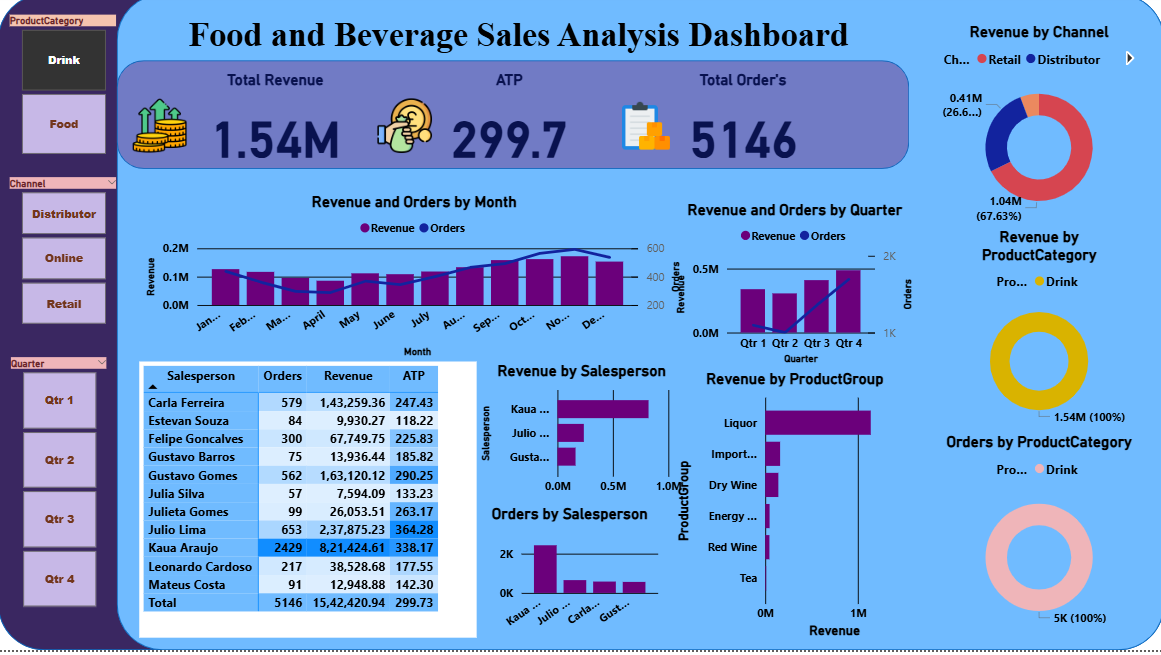

This screenshot's page, from the dashboard's own definition file:
{"tool":"powerbi","page":{"name":"Page 2","canvas":[1280,720],"ordinal":1},"visuals":[{"type":"shape","box":[0,0,1280.3,720.4],"z":0},{"type":"shape","box":[130.4,0,1149.9,720.4],"z":1000},{"type":"shape","box":[130.4,72.7,870,119.4],"z":2000},{"type":"card","title":"Total Revenue","fields":{"Values":["Product.Revenue"]},"box":[155.1,83.7,299.1,119.4],"z":3000},{"type":"card","title":"ATP","fields":{"Values":["Product.ATP"]},"box":[411.7,83.7,299.1,119.4],"z":4000},{"type":"card","title":"Total Order''s","fields":{"Values":["Product.Orders"]},"box":[668.3,83.7,299.1,119.4],"z":5000},{"type":"donutChart","fields":{"Y":["Product.Revenue"],"Category":["Sheet1.Channel"]},"box":[1033.3,31.6,219.6,225],"z":6000},{"type":"donutChart","fields":{"Y":["Product.Revenue"],"Category":["Product.ProductCategory"]},"box":[1033.3,256.6,219.6,225],"z":7000},{"type":"donutChart","fields":{"Category":["Product.ProductCategory"],"Y":["Product.Orders"]},"box":[1033.3,481.6,219.6,225],"z":8000},{"type":"lineStackedColumnComboChart","fields":{"Y":["Product.Revenue"],"Y2":["Product.Orders"],"Category":["Sheet1.OrderDate.Variation.Date Hierarchy.Quarter"]},"box":[739.6,226.4,270.3,185.2],"z":9000},{"type":"barChart","fields":{"Y":["Product.Revenue"],"Category":["Product.ProductGroup"]},"box":[739.6,411.7,270.3,300.5],"z":10000},{"type":"lineStackedColumnComboChart","fields":{"Y":["Product.Revenue"],"Y2":["Product.Orders"],"Category":["Sheet1.OrderDate.Variation.Date Hierarchy.Month"]},"box":[157.8,218.2,598.3,185.2],"z":11000},{"type":"barChart","fields":{"Y":["Product.Revenue"],"Category":["Sheet1.Salesperson"]},"box":[525.6,403.4,230.5,155.1],"z":12000},{"type":"clusteredColumnChart","fields":{"Y":["Product.Orders"],"Category":["Sheet1.Salesperson"]},"box":[525.6,559.9,204.5,146.8],"z":13000},{"type":"pivotTable","fields":{"Rows":["Sheet1.Salesperson"],"Values":["Product.Orders","Product.Revenue","Product.ATP"]},"box":[155.1,403.4,370.5,303.3],"z":14000},{"type":"slicer","fields":{"Values":["Product.ProductCategory"]},"box":[0,17.8,142.7,164.7],"z":15000},{"type":"slicer","fields":{"Values":["Sheet1.Channel"]},"box":[0,196.2,142.7,172.9],"z":16000},{"type":"slicer","fields":{"Values":["Sheet1.OrderDate.Variation.Date Hierarchy.Quarter"]},"box":[1.4,393.8,130.4,285.4],"z":17000},{"type":"textbox","box":[142.7,17.8,857.6,54.9],"z":18000},{"type":"image","box":[142.7,109.8,70,70],"z":19000},{"type":"image","box":[676.5,109.8,70,70],"z":20000},{"type":"image","box":[411.7,109.8,70,70],"z":21000}]}

Visuals, with their boxes in screenshot pixels (x1, y1, x2, y2), scaled from the page's 1280x720 canvas onto the 1161x655 screenshot:
shape: pyautogui.locateOnScreen(0, 0, 1160, 654)
shape: pyautogui.locateOnScreen(118, 0, 1160, 654)
shape: pyautogui.locateOnScreen(118, 66, 907, 175)
"Total Revenue" card: pyautogui.locateOnScreen(141, 76, 412, 185)
"ATP" card: pyautogui.locateOnScreen(373, 76, 645, 185)
"Total Order''s" card: pyautogui.locateOnScreen(606, 76, 877, 185)
donutChart - Product.Revenue x Sheet1.Channel: pyautogui.locateOnScreen(937, 29, 1136, 233)
donutChart - Product.Revenue x Product.ProductCategory: pyautogui.locateOnScreen(937, 233, 1136, 438)
donutChart - Product.ProductCategory x Product.Orders: pyautogui.locateOnScreen(937, 438, 1136, 643)
lineStackedColumnComboChart - Product.Revenue x Product.Orders: pyautogui.locateOnScreen(671, 206, 916, 374)
barChart - Product.Revenue x Product.ProductGroup: pyautogui.locateOnScreen(671, 375, 916, 648)
lineStackedColumnComboChart - Product.Revenue x Product.Orders: pyautogui.locateOnScreen(143, 199, 686, 367)
barChart - Product.Revenue x Sheet1.Salesperson: pyautogui.locateOnScreen(477, 367, 686, 508)
clusteredColumnChart - Product.Orders x Sheet1.Salesperson: pyautogui.locateOnScreen(477, 509, 662, 643)
pivotTable - Sheet1.Salesperson x Product.Orders: pyautogui.locateOnScreen(141, 367, 477, 643)
slicer - Product.ProductCategory: pyautogui.locateOnScreen(0, 16, 129, 166)
slicer - Sheet1.Channel: pyautogui.locateOnScreen(0, 178, 129, 336)
slicer - Sheet1.OrderDate.Variation.Date Hierarchy.Quarter: pyautogui.locateOnScreen(1, 358, 120, 618)
textbox: pyautogui.locateOnScreen(129, 16, 907, 66)
image: pyautogui.locateOnScreen(129, 100, 193, 164)
image: pyautogui.locateOnScreen(614, 100, 677, 164)
image: pyautogui.locateOnScreen(373, 100, 437, 164)
